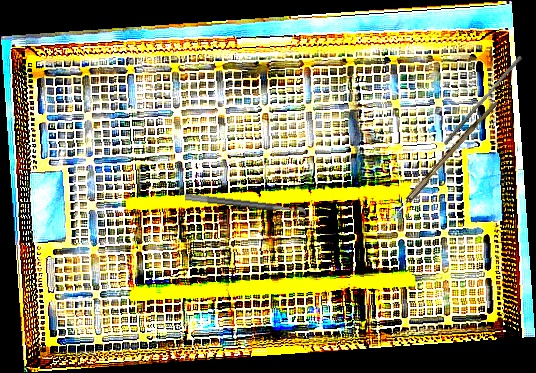Fixation Ring: (183, 192, 307, 226)
Pusher: (443, 52, 523, 149)
Surgical Spoon: (373, 98, 499, 240)
